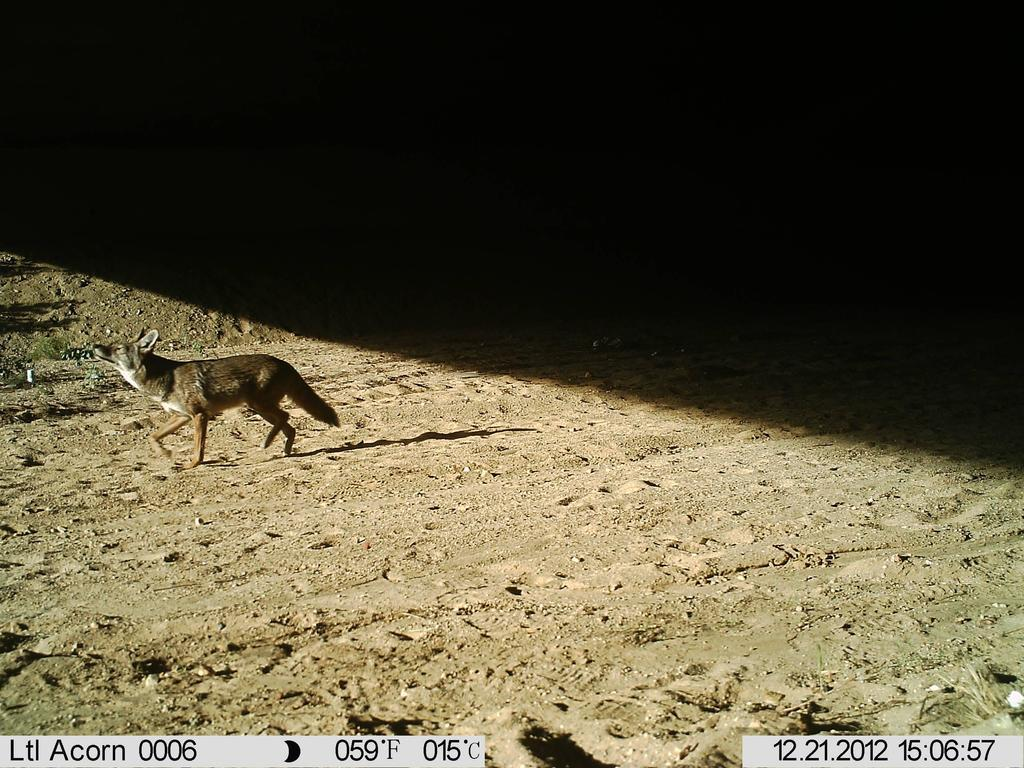coyote: (90, 325, 345, 473)
